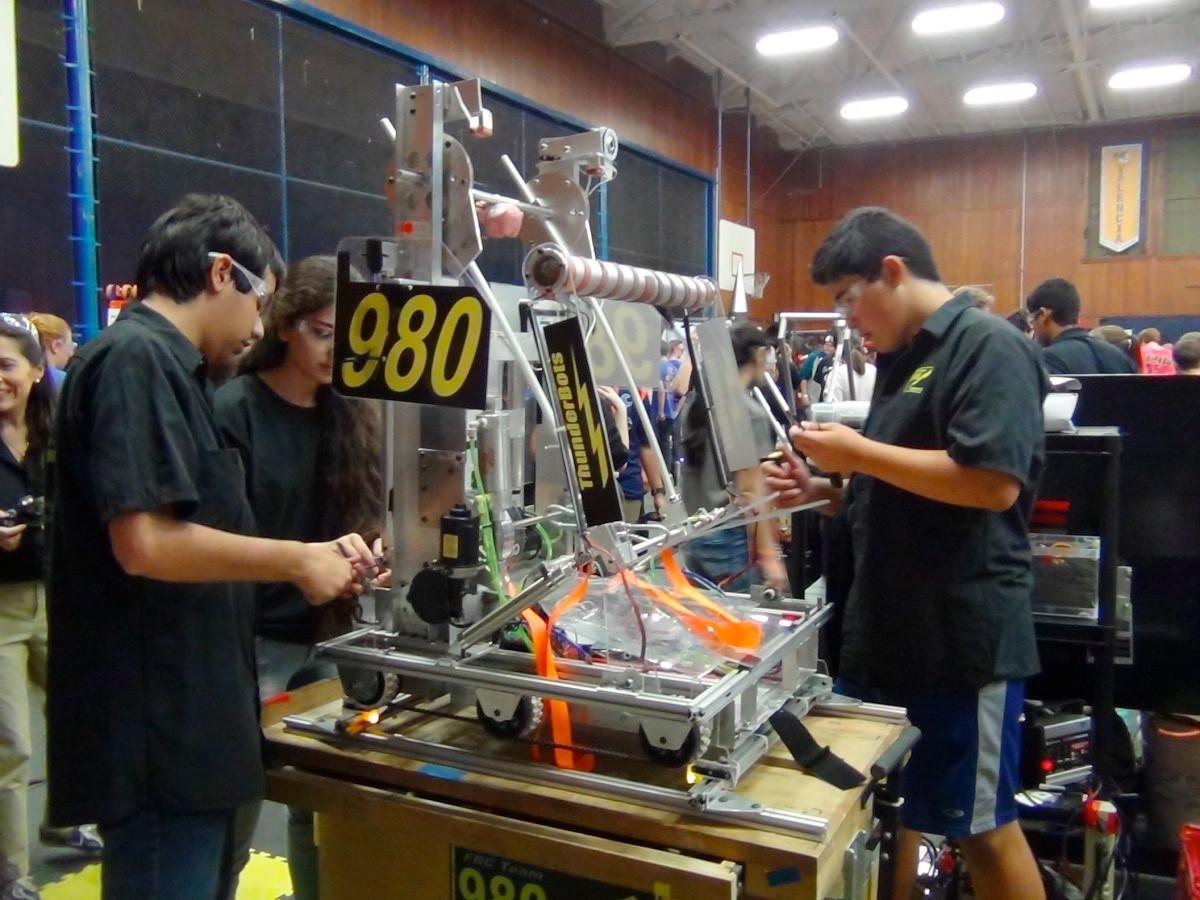robot: (314, 64, 830, 790)
